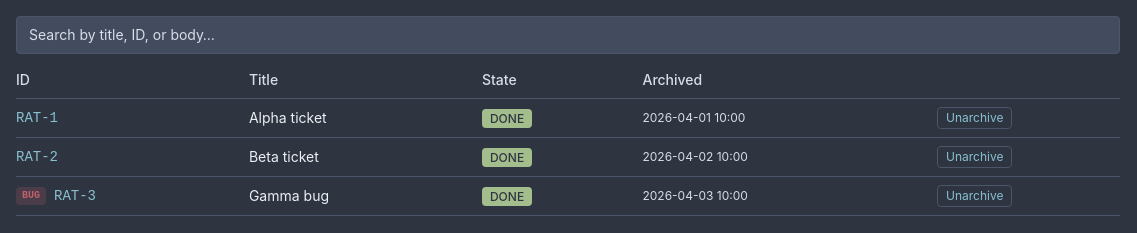
Test: ArchiveTab › should show an empty-results message when nothing matches the filter
Type "zzznomatch" into the field with placeholder "Search by title, ID, or body…" at [568, 35], box [16,16,1120,54]
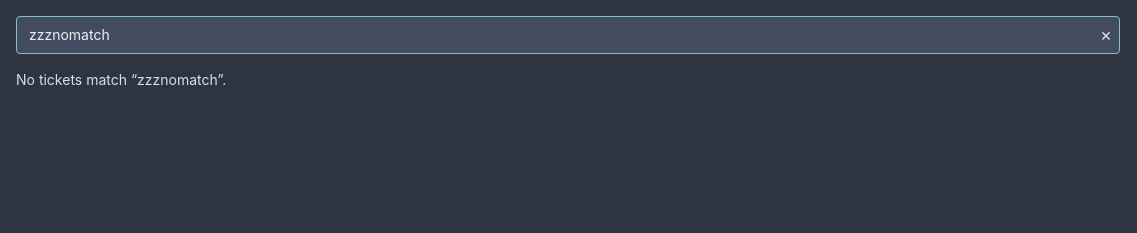
Expected: the text "No tickets match “zzznomatch”." is shown, [16,71,226,88]
